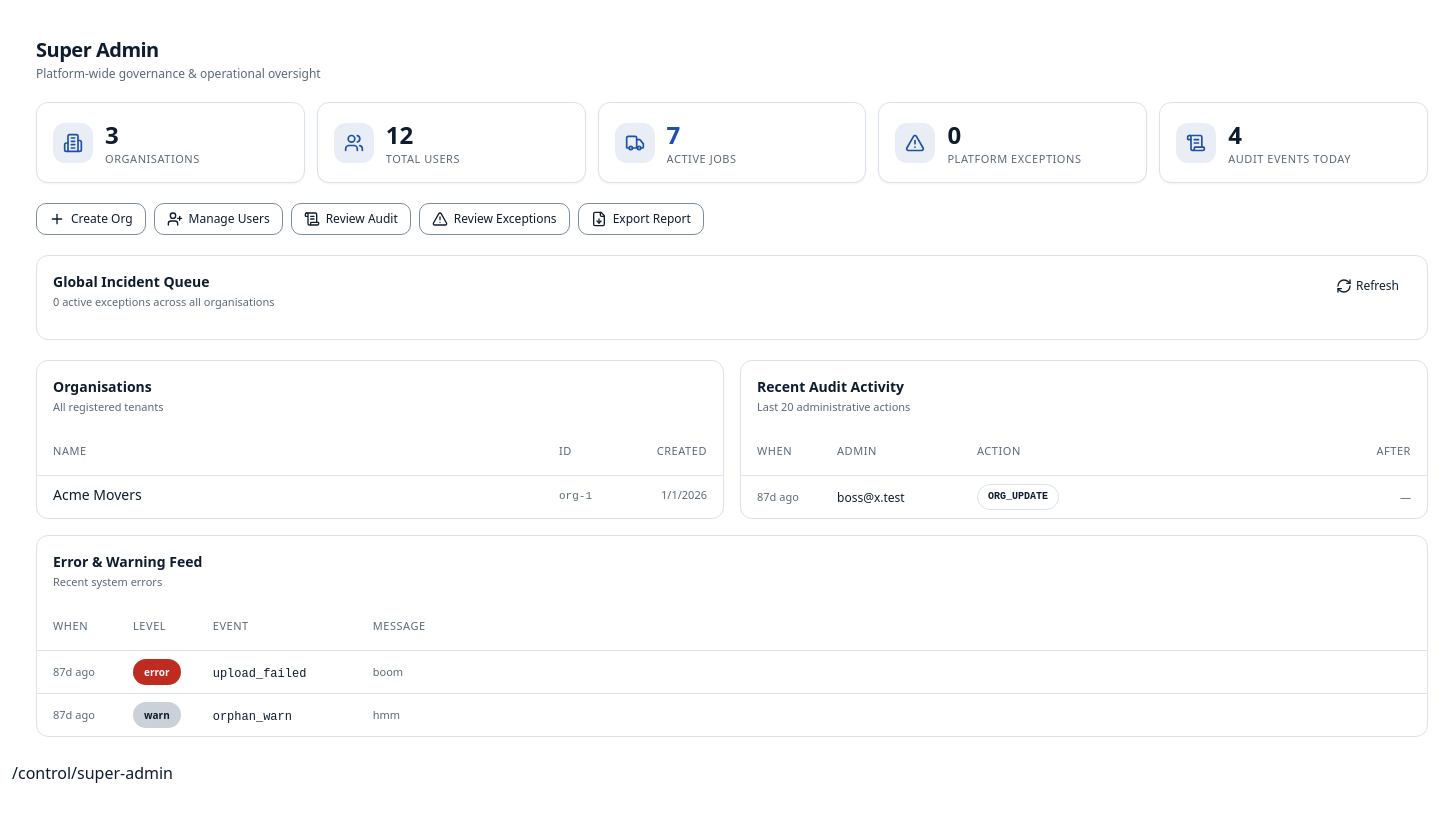
Test: ControlSuperAdmin linking › Export Report is enabled and opens Exports
Click the button "Export Report" at (641, 219), box [578,203,704,235]
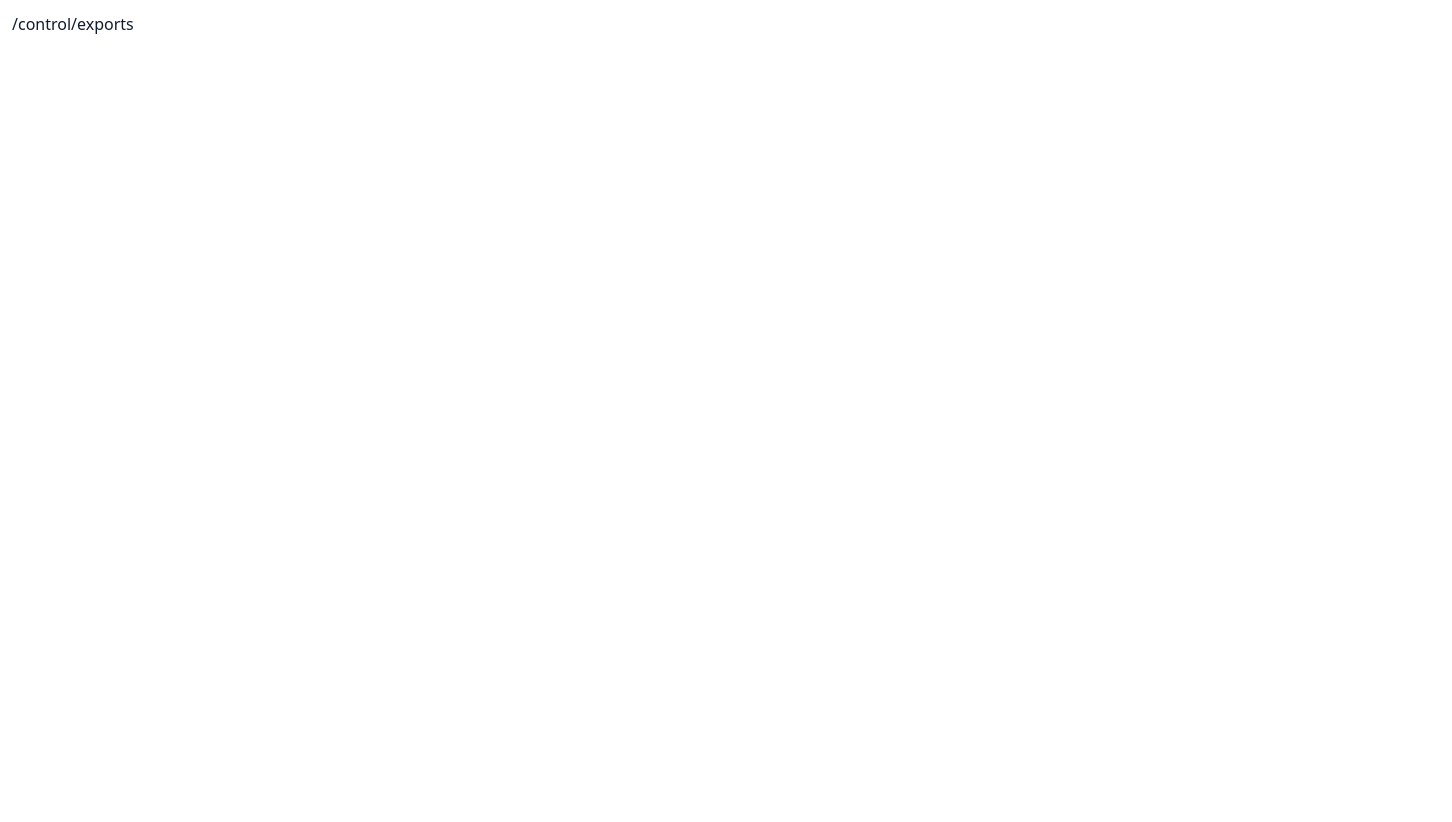
Check: the text with test id "location" reads "/control/exports", box [12,13,134,35]
